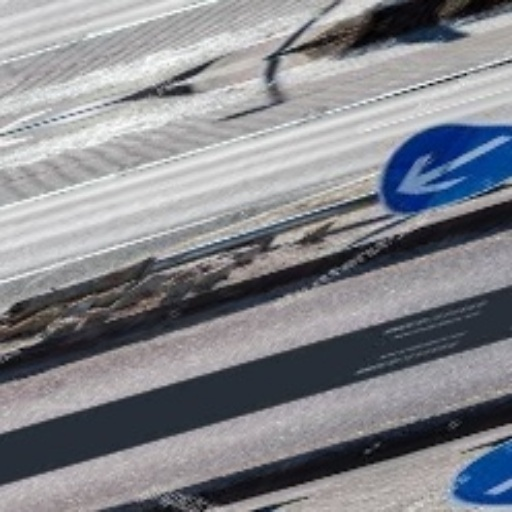Keep left: (380, 105, 511, 229)
